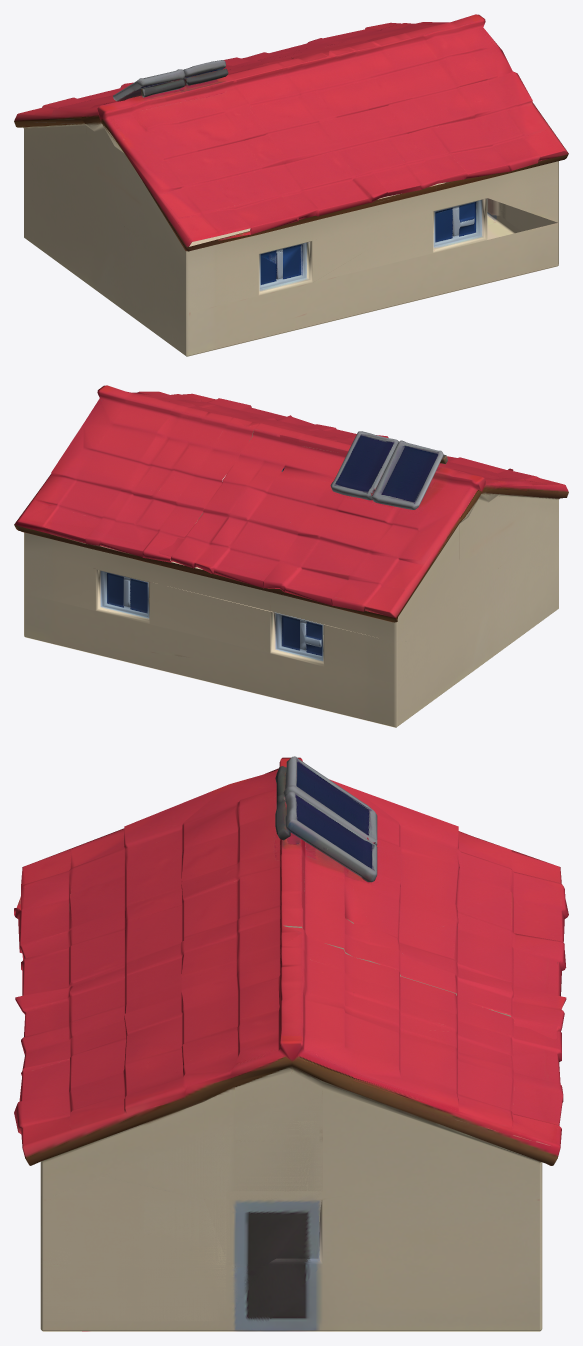
The model's file is bld_556855836.glb.
The picture shows the model from 3 angles, top to bottom: view 1: azimuth 30°, elevation 25°; view 2: azimuth 150°, elevation 25°; view 3: azimuth 270°, elevation 25°; orthographic projection. The views are drawn at different scales.
Size of the model in its own units: 1.91 by 0.998 by 1.55.
1 material, 1 textured.
